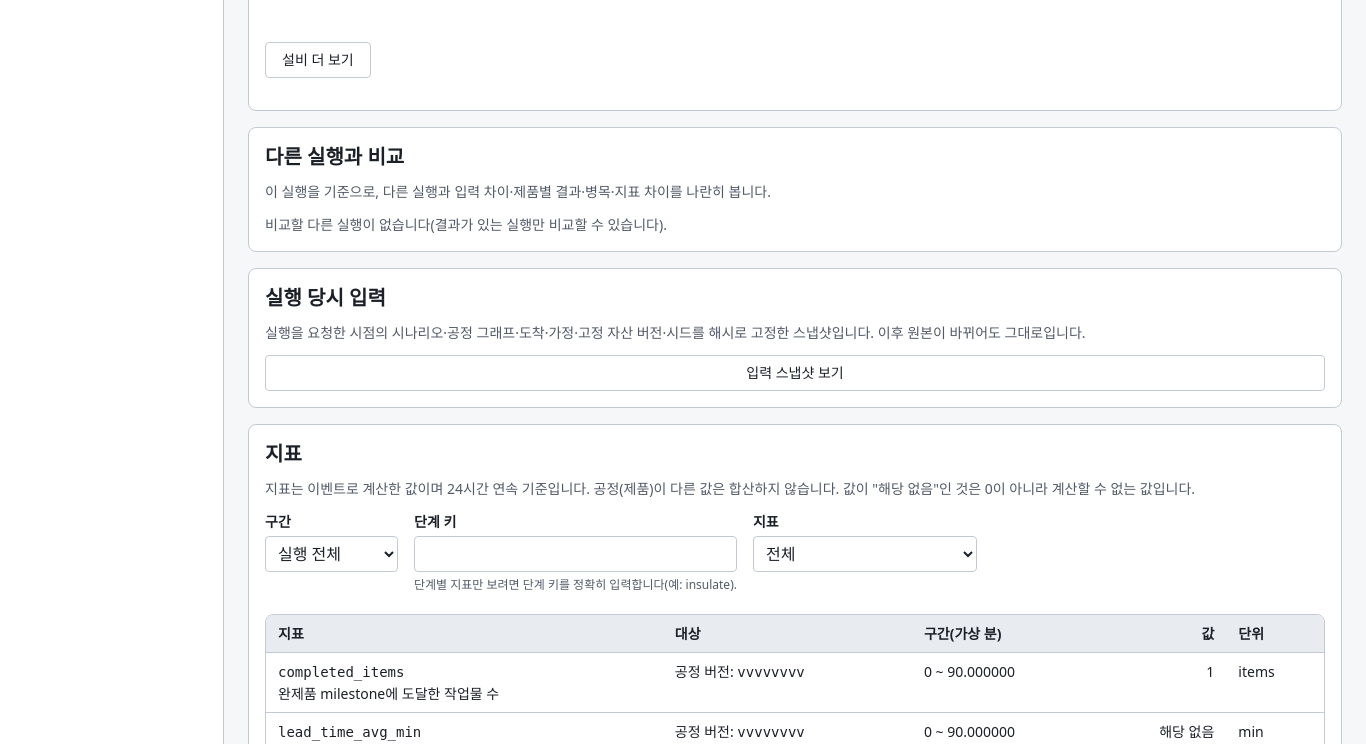
API 모드: 실행 상세(진행·결과) › 입력 스냅샷은 펼칠 때만 불러오고 해시 검증 결과를 보인다
(page scrolled)
Click the button "입력 스냅샷 보기" at (795, 373), box [265,355,1325,391]
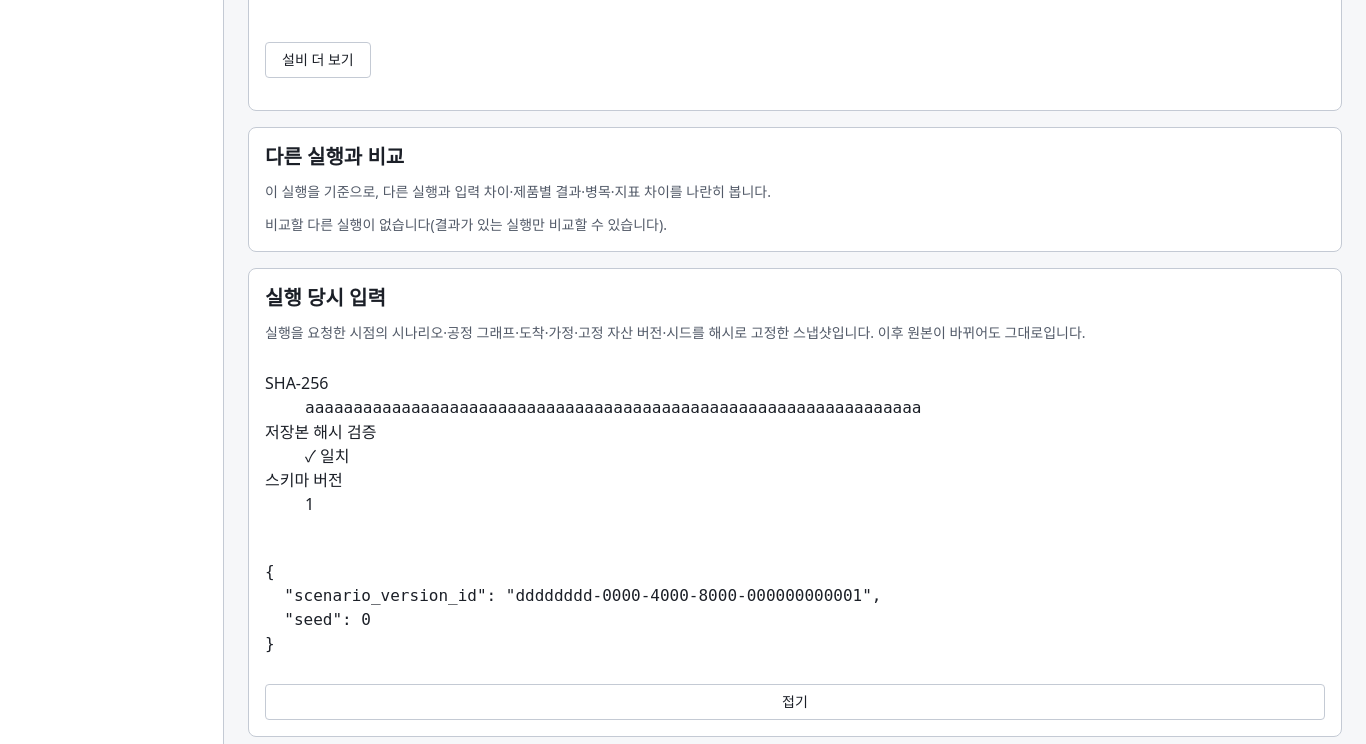
Expected: the text "✓ 일치" is shown, [305,445,350,467]
